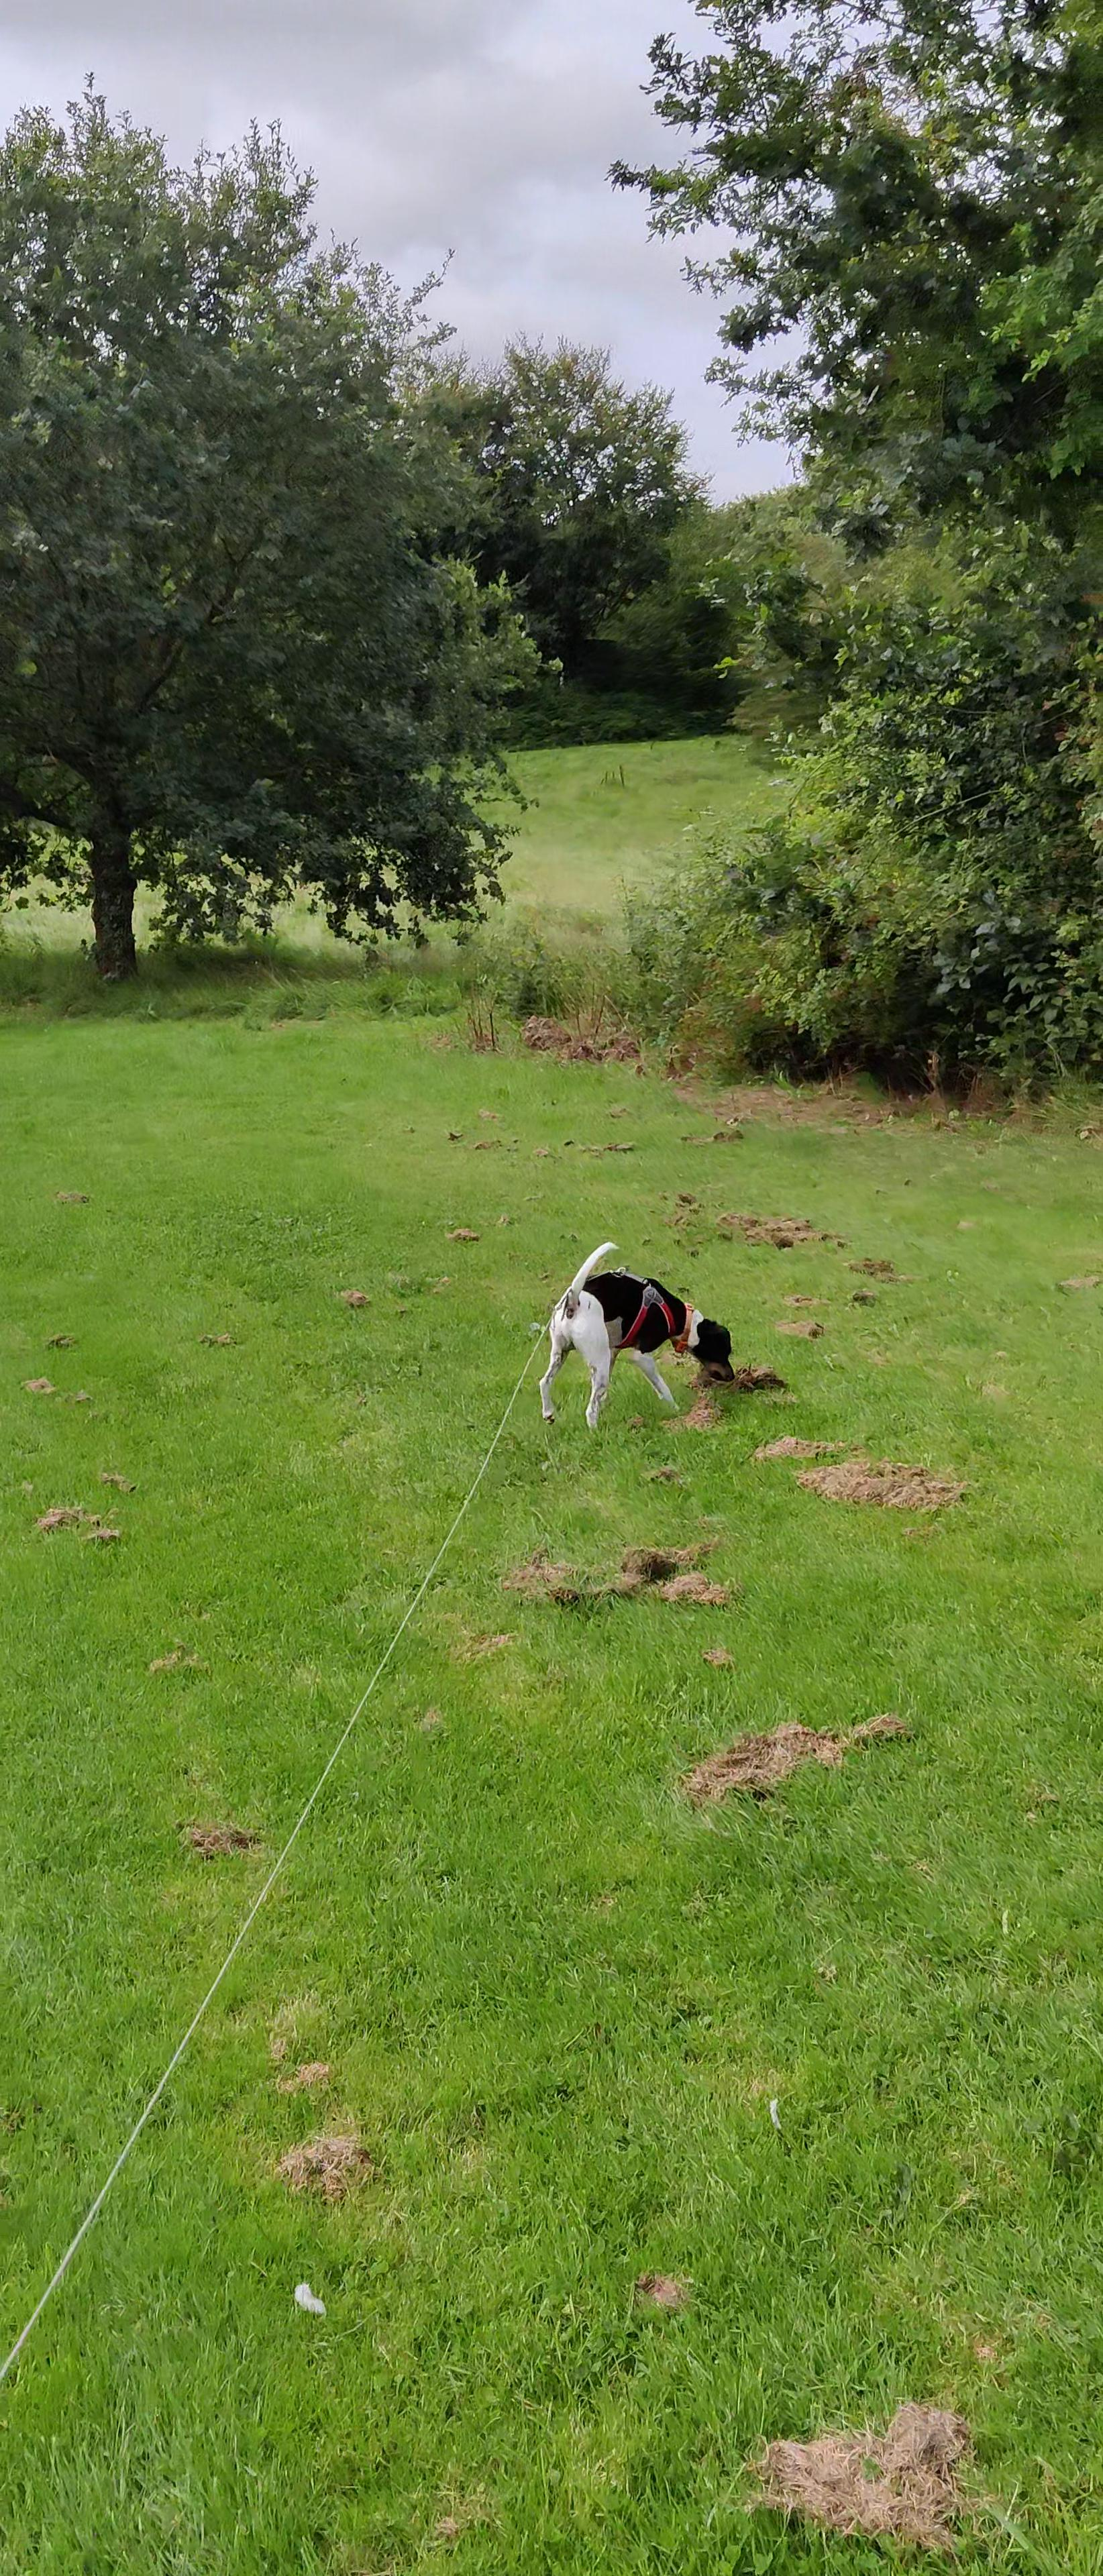Dog: (531, 1235, 741, 1439)
